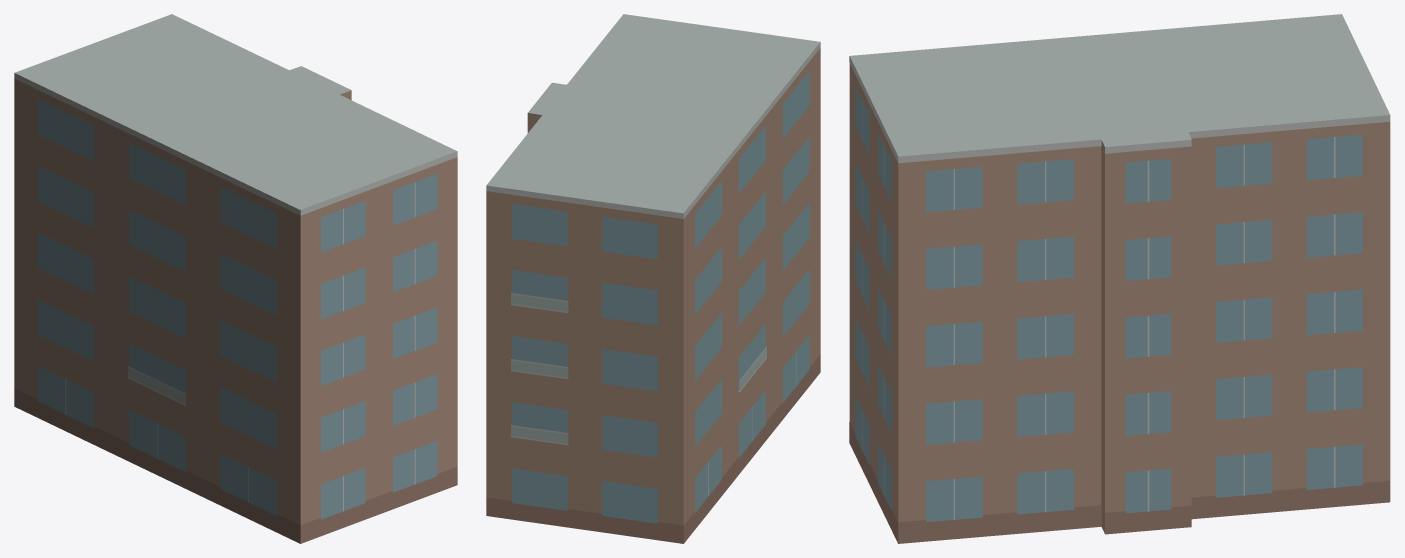
Rendered from survey-upis-32945557.glb.
3 renders of one model, left to right at view 1: azimuth 30°, elevation 25°; view 2: azimuth 150°, elevation 25°; view 3: azimuth 270°, elevation 25°, orthographic. The views are drawn at different scales.
Parts seen in each view (by area): view 1: survey-upis-32945557.tmp; view 2: survey-upis-32945557.tmp; view 3: survey-upis-32945557.tmp.
Boxes of the visible parts, <box> form: survey-upis-32945557.tmp: <box>14,14,457,543</box>; survey-upis-32945557.tmp: <box>486,14,820,543</box>; survey-upis-32945557.tmp: <box>849,14,1390,543</box>.
Size of the model in its own units: 11.31 by 14.3 by 18.11.
